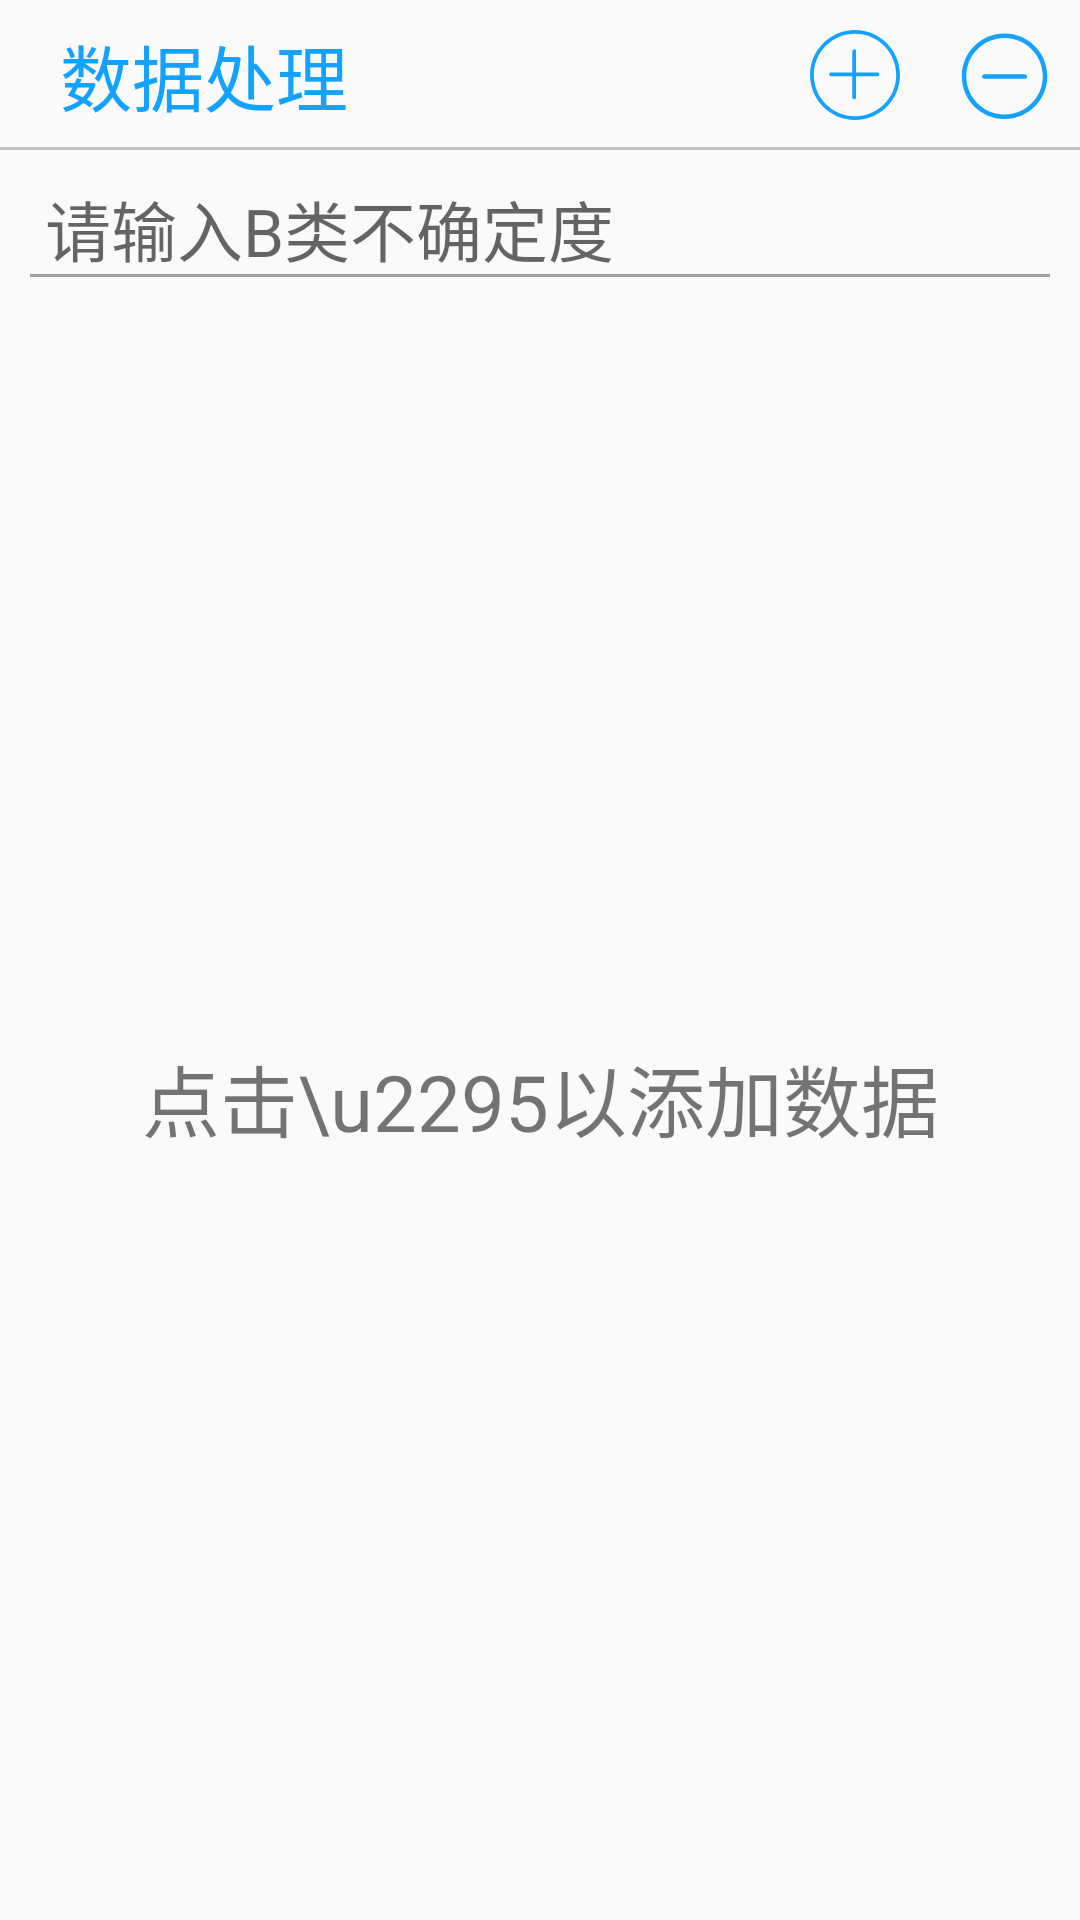

Icon click points for this 1080*1920 phone screenshot, format point (x, y):
add data: point (855, 75)
minus data: point (1004, 76)
